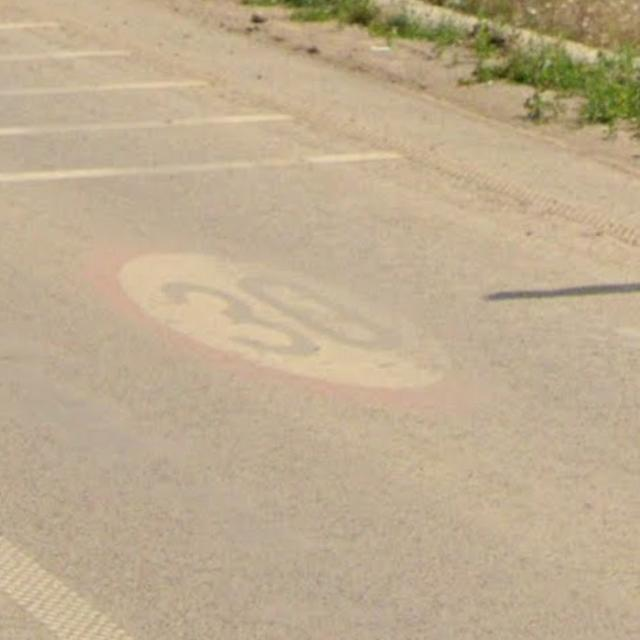forb_speed_over_30: (77, 227, 488, 411)
